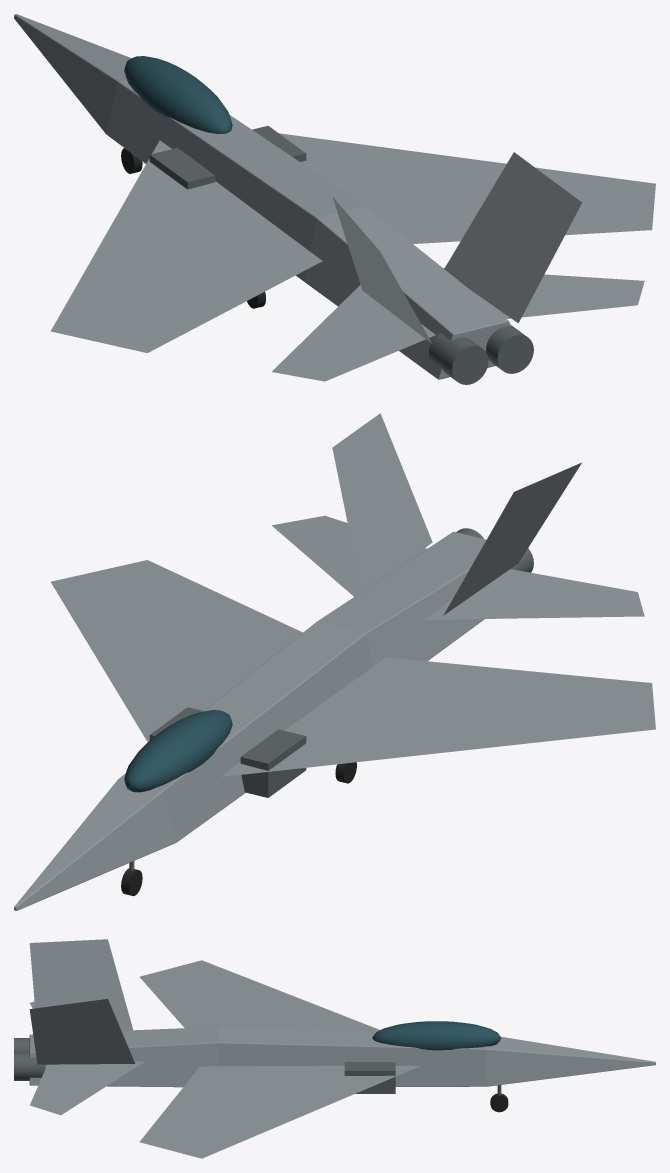
The picture shows the model from 3 angles, top to bottom: view 1: azimuth 30°, elevation 25°; view 2: azimuth 150°, elevation 25°; view 3: azimuth 270°, elevation 25°; orthographic projection. The views are drawn at different scales.
Visible parts, largest first — view 1: Hull_MVP gray paint, Hull_MVP exposed metal, Hull_MVP optical glass, RunningGear_MVP rubber; view 2: Hull_MVP gray paint, Hull_MVP optical glass, Hull_MVP exposed metal, RunningGear_MVP rubber; view 3: Hull_MVP gray paint, Hull_MVP optical glass, Hull_MVP exposed metal.
Part boxes in pixels (x1,y1,x2,y2): Hull_MVP gray paint: (14, 14, 655, 381); Hull_MVP exposed metal: (149, 125, 533, 384); Hull_MVP optical glass: (124, 56, 232, 134); RunningGear_MVP rubber: (121, 148, 265, 308); Hull_MVP gray paint: (14, 413, 655, 910); Hull_MVP optical glass: (124, 710, 232, 792); Hull_MVP exposed metal: (149, 528, 533, 797); RunningGear_MVP rubber: (121, 762, 356, 896); Hull_MVP gray paint: (29, 939, 655, 1158); Hull_MVP optical glass: (372, 1021, 501, 1050); Hull_MVP exposed metal: (14, 1038, 395, 1093).
Size of the model in its own units: 12 by 4 by 16.4.
